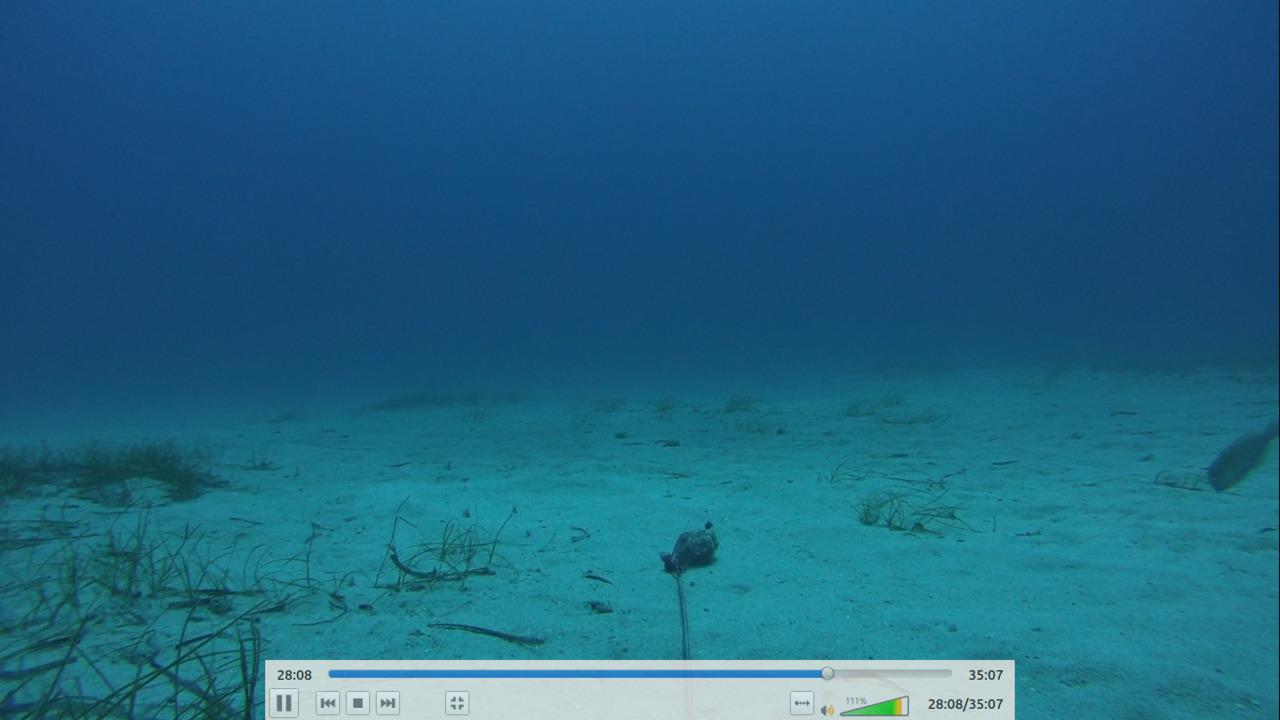raor: (1204, 412, 1278, 497)
